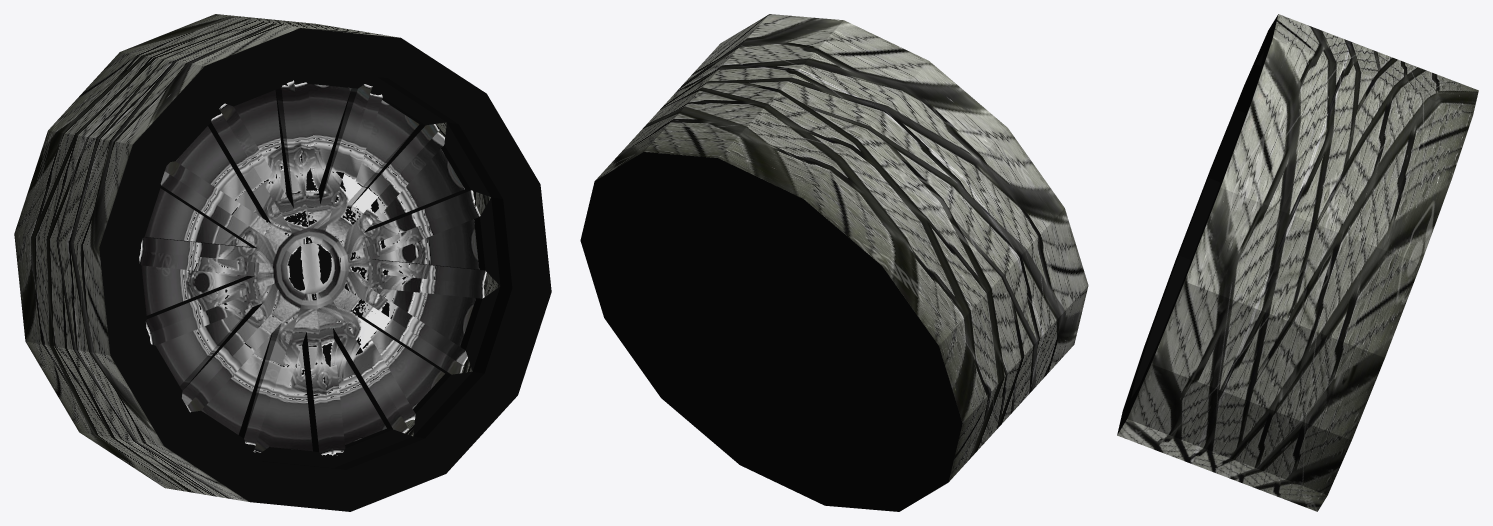
File: llantai.obj
The picture shows the model from 3 angles, left to right: view 1: azimuth 30°, elevation 25°; view 2: azimuth 150°, elevation 25°; view 3: azimuth 270°, elevation 25°; orthographic projection. The views are drawn at different scales.
Visible parts, largest first — view 1: polySurface4 carro:polySurface141polySurface51; view 2: polySurface4 carro:polySurface141polySurface51; view 3: polySurface4 carro:polySurface141polySurface51.
Boxes of the visible parts, x1,y1,x2,y2 form: polySurface4 carro:polySurface141polySurface51: (14,14,551,511); polySurface4 carro:polySurface141polySurface51: (580,14,1088,511); polySurface4 carro:polySurface141polySurface51: (1117,14,1478,511).
Size of the model in its own units: 0.5278 by 0.5602 by 0.4075.
3 materials, 2 textured.
